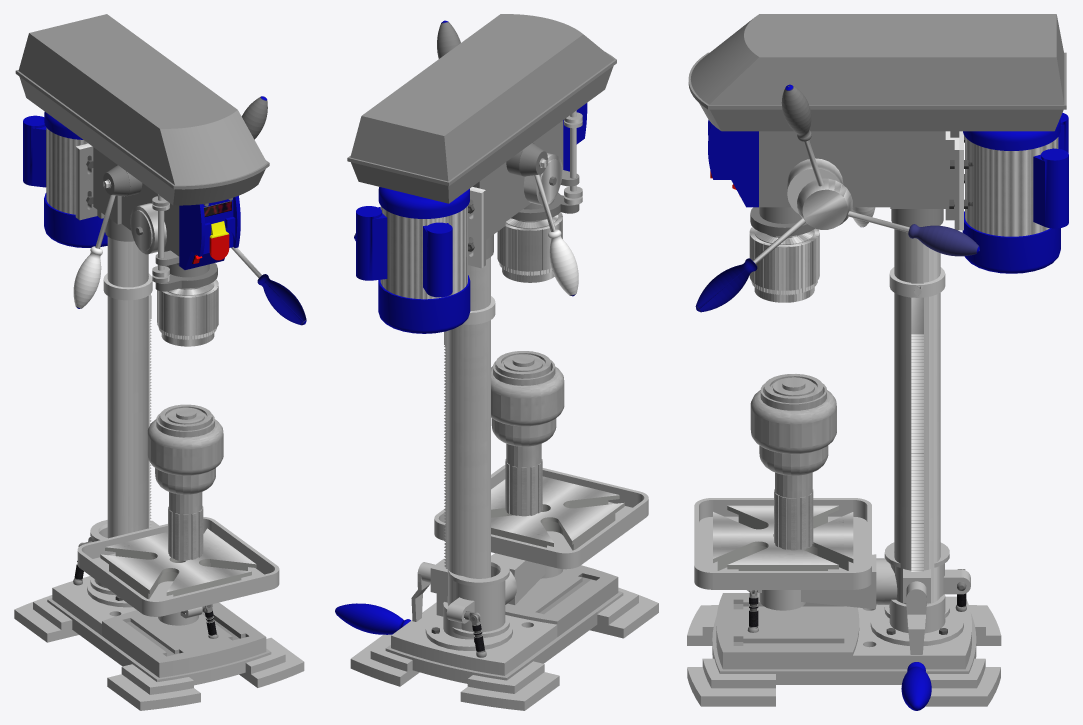
The picture shows the model from 3 angles, left to right: view 1: azimuth 30°, elevation 25°; view 2: azimuth 150°, elevation 25°; view 3: azimuth 270°, elevation 25°; orthographic projection. The views are drawn at different scales.
Visible parts, largest first — view 1: 01, 04, 1.003, 03, 02.001, 2; view 2: 01, 04, 1.003, 03, 2, 02.001; view 3: 01, 04, 1.003, 02.001, 03, 2.
Boxes of the visible parts, x1=… form: 01: x1=14, y1=14, x2=304, y2=710; 04: x1=73, y1=517, x2=279, y2=638; 1.003: x1=147, y1=413, x2=223, y2=560; 03: x1=157, y1=279, x2=218, y2=346; 02.001: x1=231, y1=96, x2=306, y2=325; 2: x1=160, y1=404, x2=211, y2=430; 01: x1=347, y1=14, x2=658, y2=710; 04: x1=335, y1=465, x2=648, y2=657; 1.003: x1=491, y1=360, x2=564, y2=516; 03: x1=497, y1=212, x2=562, y2=282; 2: x1=495, y1=351, x2=550, y2=378; 02.001: x1=354, y1=20, x2=460, y2=240; 01: x1=687, y1=14, x2=1068, y2=706; 04: x1=694, y1=498, x2=970, y2=710; 1.003: x1=750, y1=383, x2=836, y2=550; 02.001: x1=695, y1=84, x2=979, y2=312; 03: x1=749, y1=226, x2=819, y2=302; 2: x1=764, y1=374, x2=823, y2=403.
Bounding box in the file's own units: 485 × 1225 × 676.
Materials: 37 (10 with a texture image).
